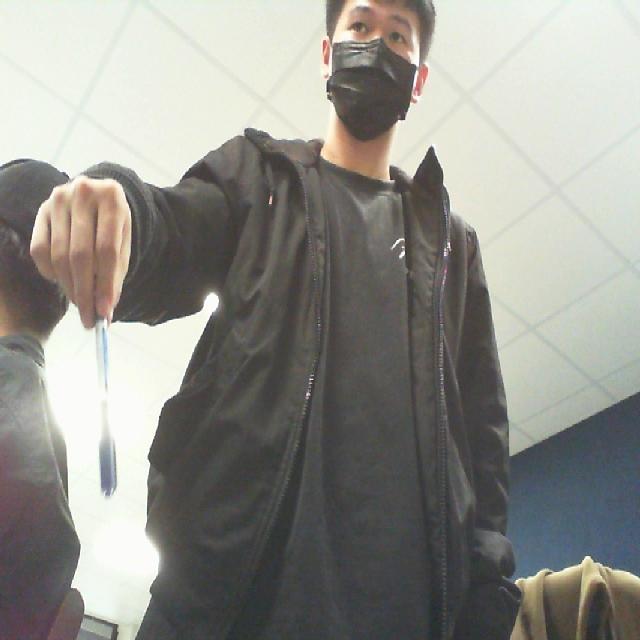Pen: (77, 260, 144, 559)
